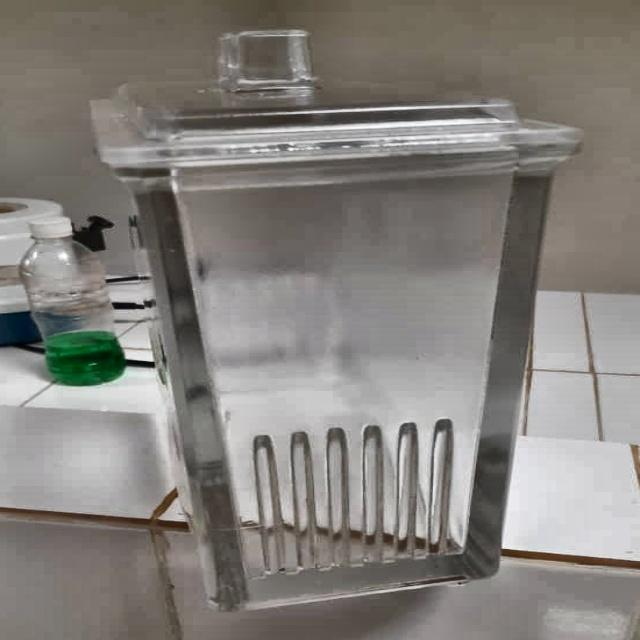TLC Tank: (79, 19, 589, 618)
